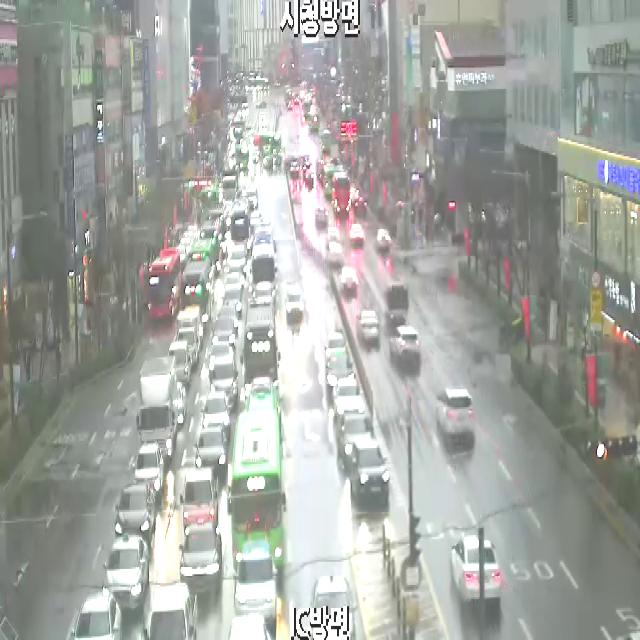Bus: (226, 393, 288, 571), (241, 305, 281, 404), (148, 249, 181, 323), (184, 262, 211, 320), (231, 198, 253, 248), (191, 238, 216, 280), (198, 181, 219, 225), (332, 172, 350, 217), (326, 165, 341, 194)
Car: (450, 537, 501, 609), (103, 532, 148, 610), (310, 576, 357, 640), (178, 530, 222, 594), (234, 556, 277, 620), (115, 481, 156, 548), (180, 470, 220, 535), (350, 442, 390, 505), (70, 594, 121, 640), (436, 390, 475, 446), (337, 414, 374, 472), (195, 426, 228, 479), (132, 443, 164, 497), (334, 378, 365, 432), (200, 392, 230, 443), (210, 361, 238, 408), (175, 309, 199, 363), (326, 358, 354, 400), (390, 326, 420, 364), (228, 615, 273, 640), (169, 342, 194, 381), (325, 330, 348, 368), (209, 347, 235, 377), (356, 311, 380, 343), (185, 306, 204, 346), (212, 318, 234, 350), (217, 306, 238, 336), (229, 248, 248, 278), (173, 382, 186, 425), (222, 291, 242, 317), (286, 288, 303, 318), (341, 267, 358, 296), (224, 274, 242, 300), (326, 243, 345, 267), (376, 228, 392, 252), (201, 221, 218, 240), (349, 224, 364, 245), (325, 228, 340, 248), (230, 266, 244, 287), (246, 187, 259, 209), (315, 206, 329, 226), (354, 197, 368, 215), (176, 246, 188, 267), (179, 238, 191, 255), (251, 212, 263, 228), (350, 183, 360, 202), (304, 170, 314, 187), (290, 162, 299, 175), (302, 163, 313, 173)
Truck: (135, 355, 176, 461), (144, 585, 198, 640), (250, 235, 278, 306), (384, 282, 409, 323), (222, 170, 238, 200)
